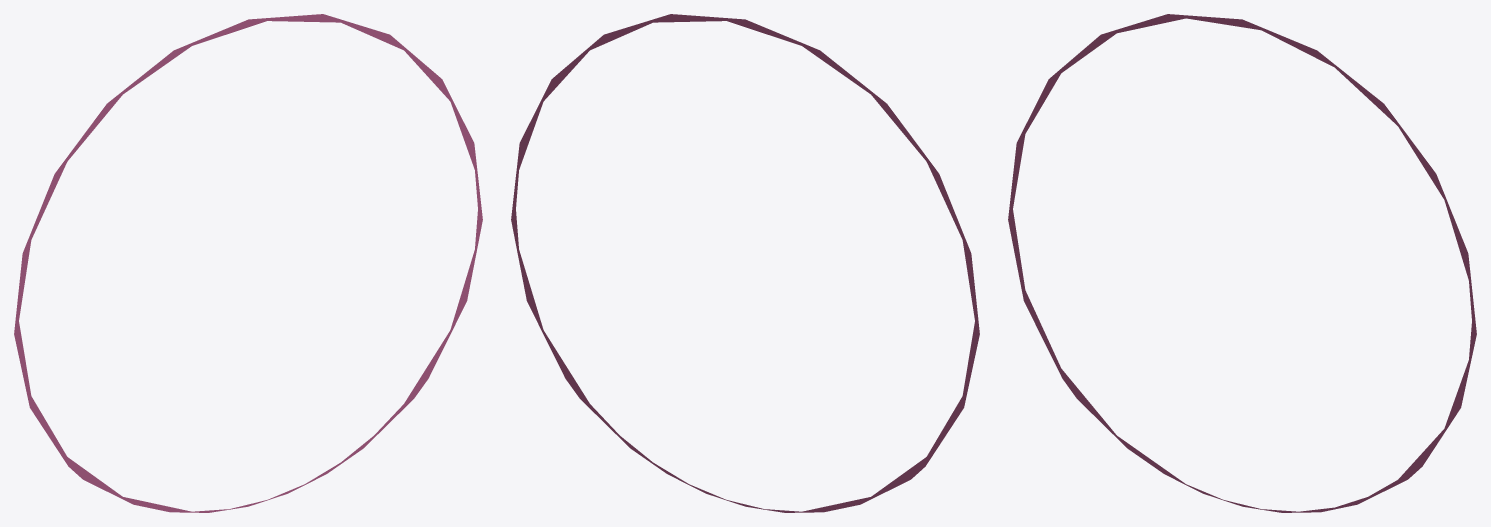
Rendered from kuka_link_6_vis_4.dae.
The picture shows the model from 3 angles, left to right: view 1: azimuth 30°, elevation 25°; view 2: azimuth 150°, elevation 25°; view 3: azimuth 330°, elevation 25°; orthographic projection.
Visible parts, largest first — view 1: Node_0000015C5C912E10; view 2: Node_0000015C5C912E10; view 3: Node_0000015C5C912E10.
Part boxes in pixels (x1,y1,x2,y2): Node_0000015C5C912E10: (14,14,482,512); Node_0000015C5C912E10: (511,14,979,512); Node_0000015C5C912E10: (1008,14,1476,512).
Bounding box in the file's own units: 0.1358 × 0.1349 × 0.
